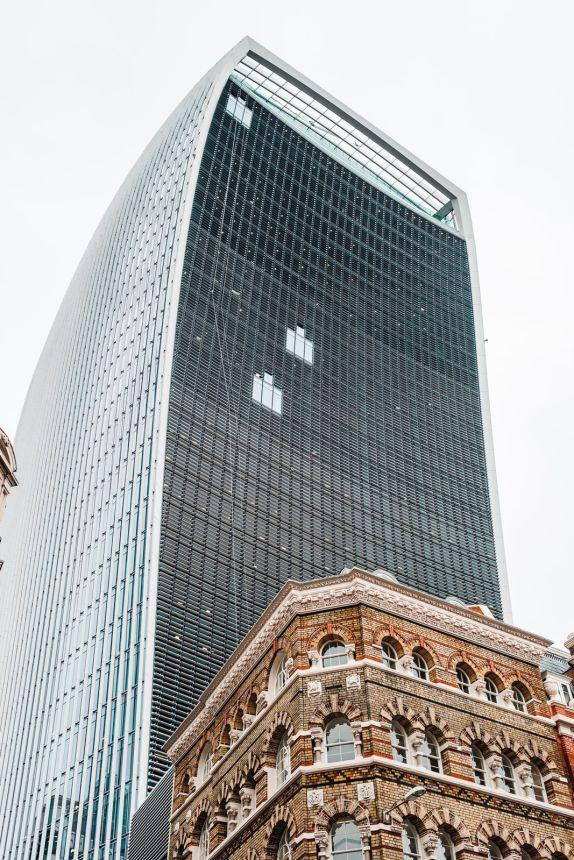Walkie talkie: (3, 21, 495, 750)
